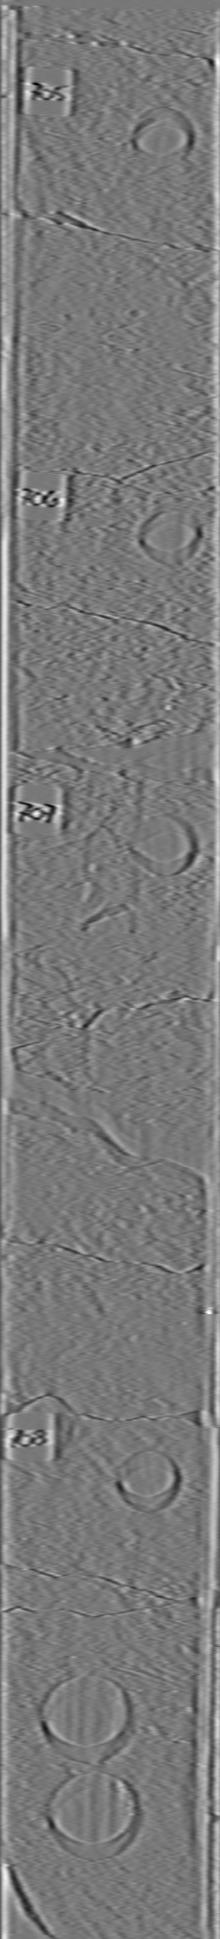hplug: (108, 1436, 185, 1519), (131, 502, 211, 573), (125, 98, 197, 172), (131, 810, 206, 878)
scal: (35, 1669, 141, 1770), (40, 1775, 145, 1864)
vplug: (69, 770, 138, 936)
